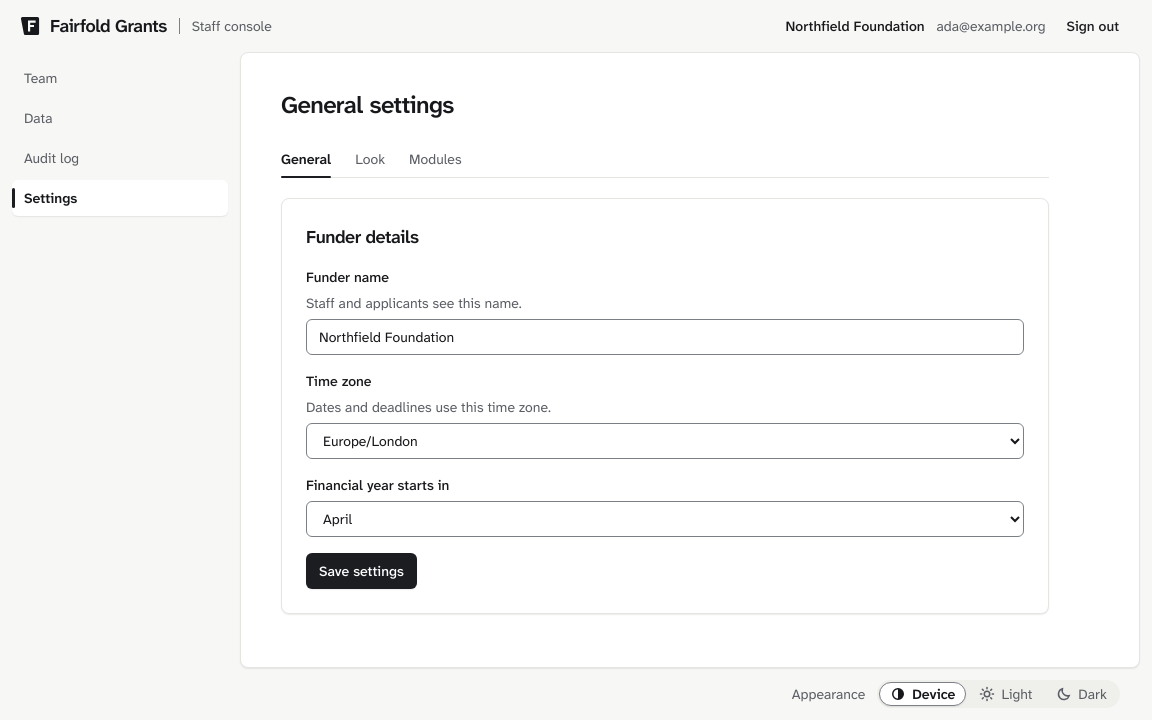
Test: the general settings page › leaves without asking when nothing has changed
The image size is (1152, 720).
Expected: the field labelled "Funder name" is shown, [306, 319, 1024, 355]
Click the link "Look" at (370, 159), box [355, 150, 385, 168]
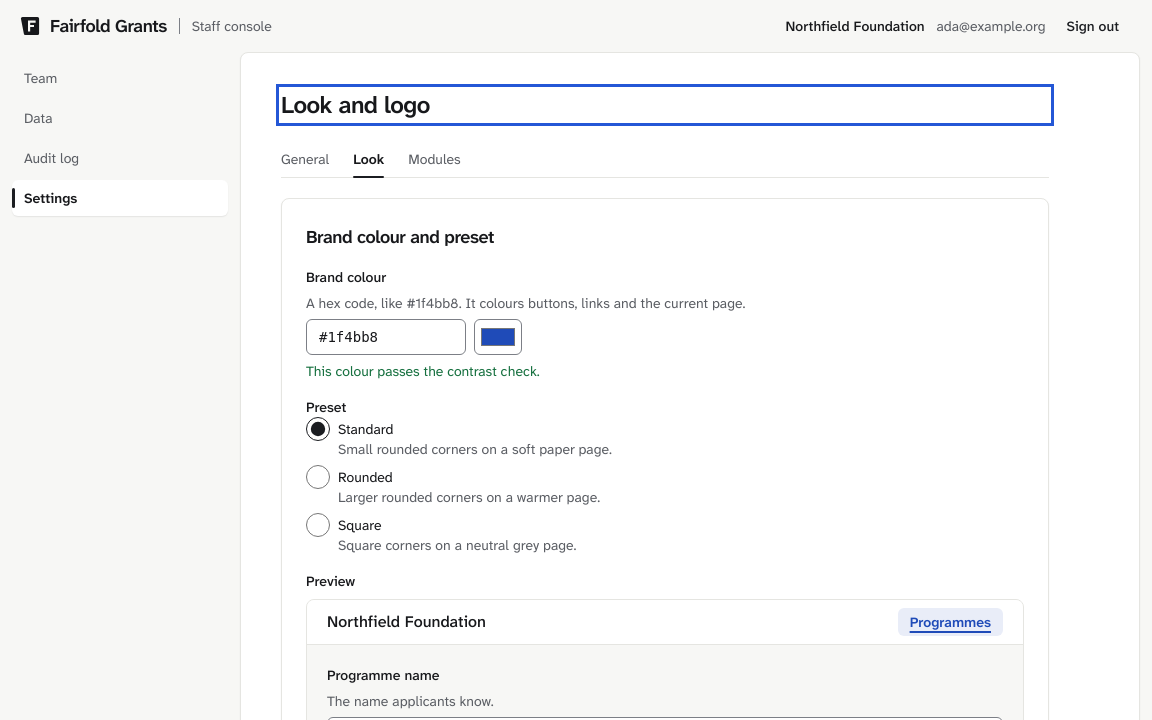
Expected: the heading "Look and logo" is shown, [281, 89, 430, 121]
